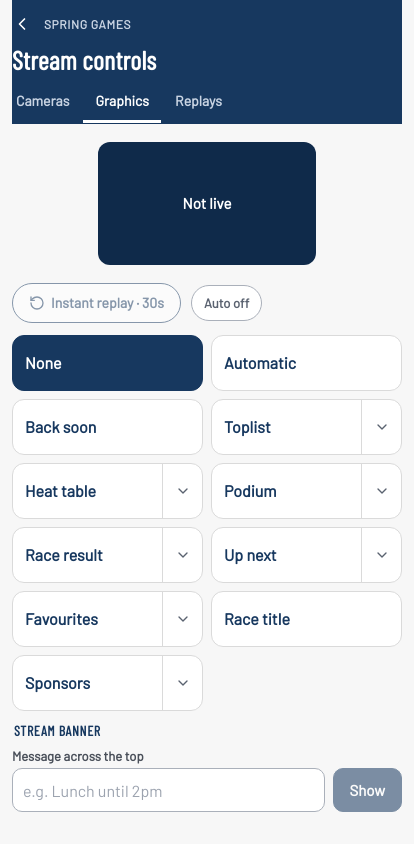
Test: StreamControlsPage › on a phone shows Cameras, Graphics and Replays, with Auto inside Graphics
Click the tab "Replays".
click(198, 102)  # box [163, 81, 234, 123]
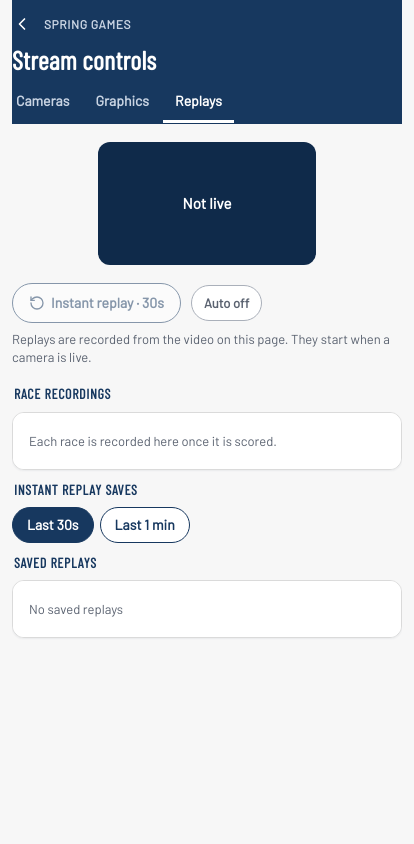
Check: the panel "Replays" no longer shows "Run automations", box [12, 323, 402, 638]
